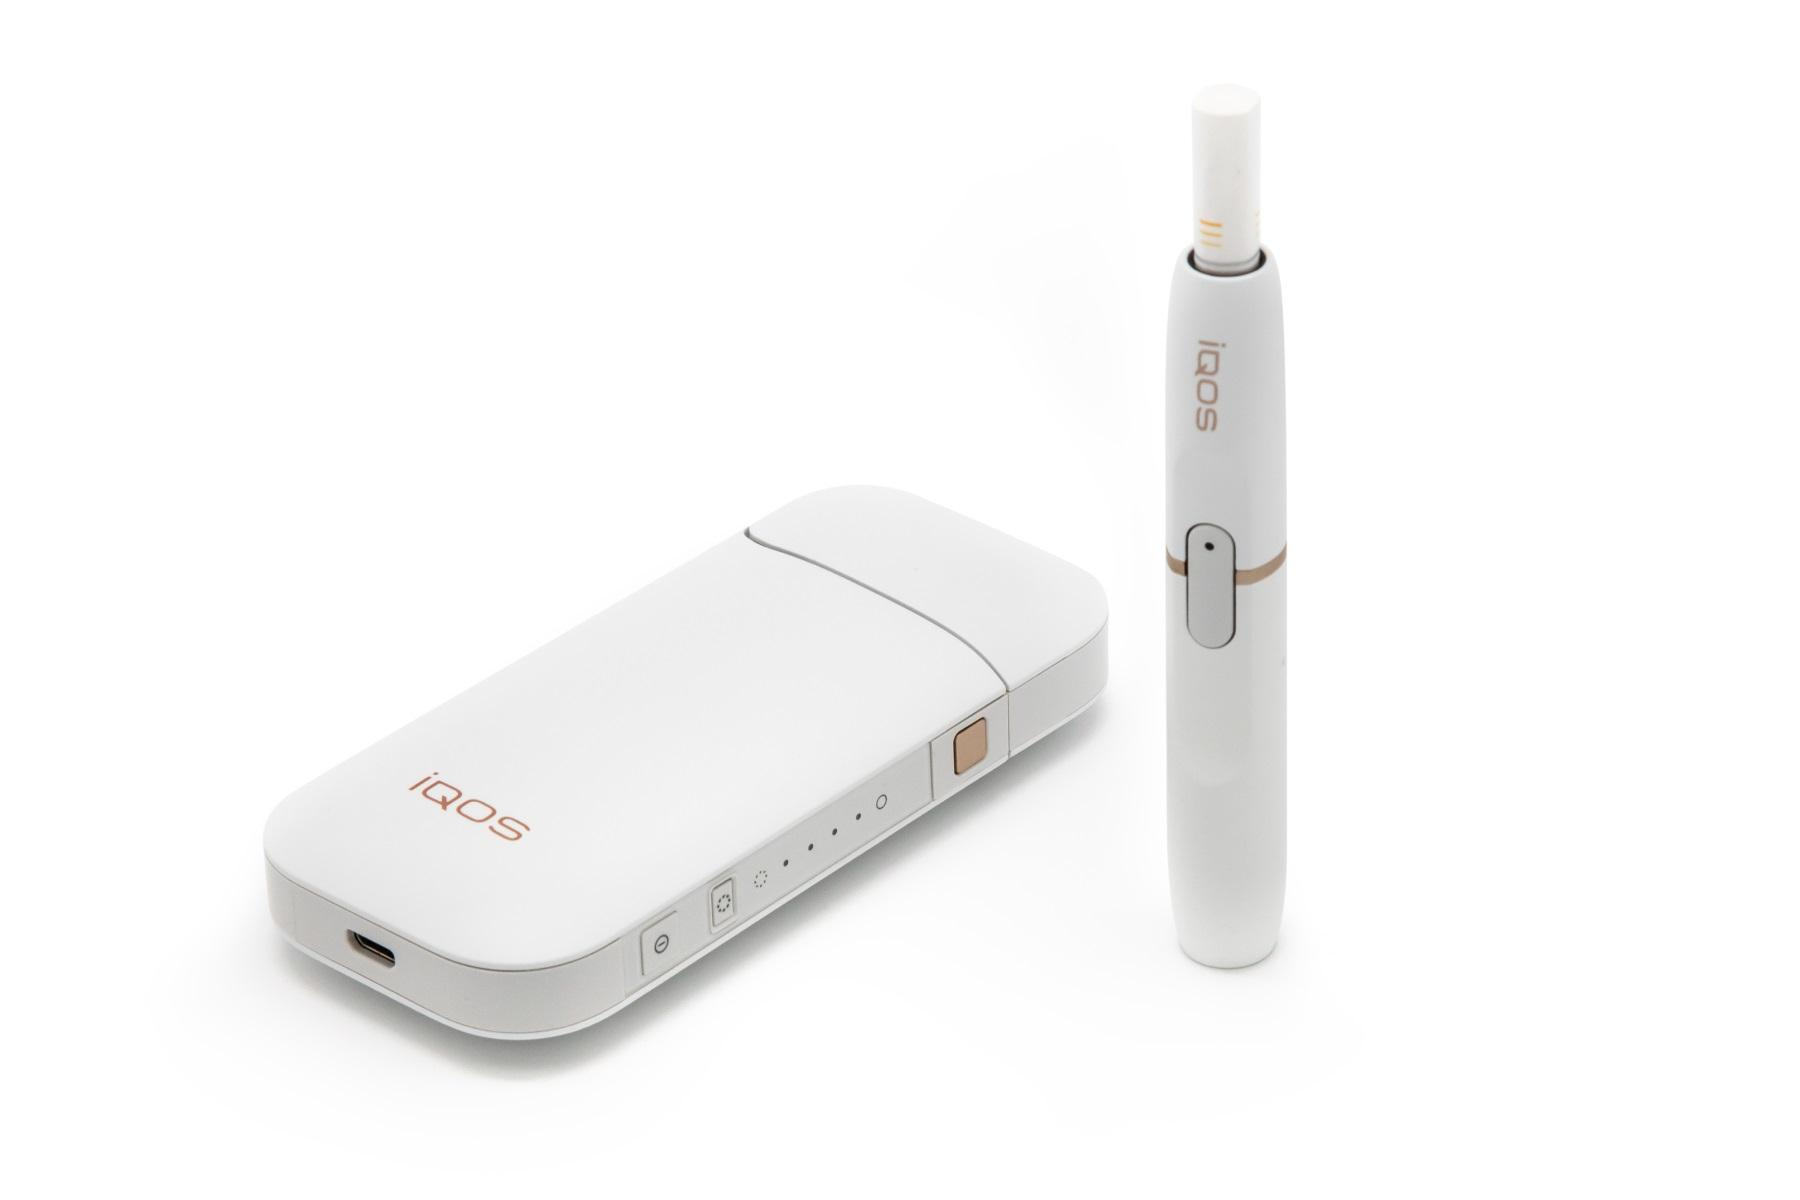iqos: (1164, 87, 1286, 968)
